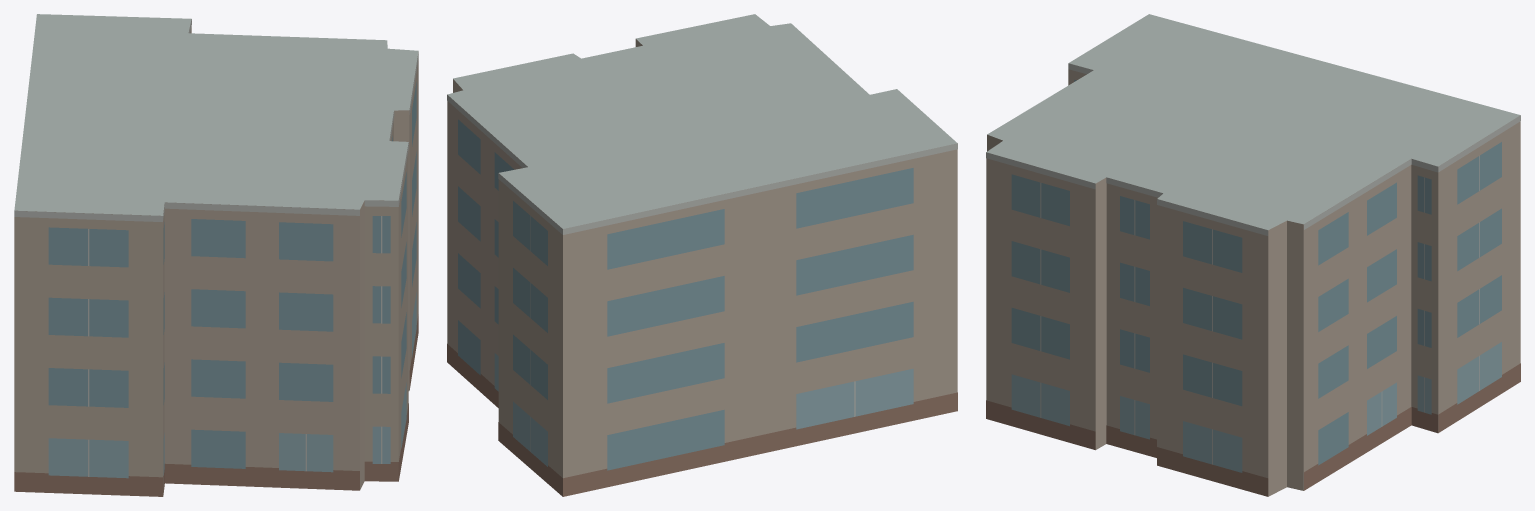
The model's file is survey-upis-32679081.glb.
3 views of the same model, side by side, from view 1: azimuth 30°, elevation 25°; view 2: azimuth 150°, elevation 25°; view 3: azimuth 270°, elevation 25° (orthographic). The views are drawn at different scales.
Visible parts, largest first — view 1: survey-upis-32679081.tmp; view 2: survey-upis-32679081.tmp; view 3: survey-upis-32679081.tmp.
Part boxes in pixels (x1=…): survey-upis-32679081.tmp: x1=14, y1=14, x2=418, y2=496; survey-upis-32679081.tmp: x1=447, y1=14, x2=957, y2=496; survey-upis-32679081.tmp: x1=986, y1=14, x2=1520, y2=496.
Bounding box in the file's own units: 18.97 × 10.9 × 19.81.
